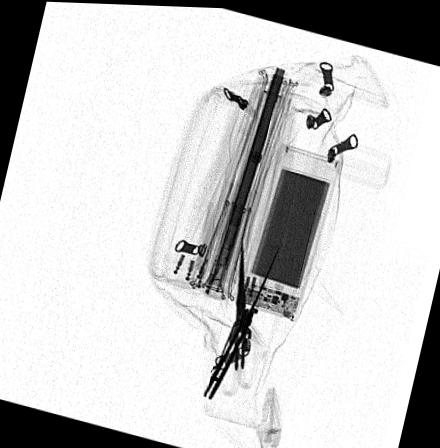Knife: (198, 240, 281, 400)
Powerbank: (239, 140, 340, 320)
Scissors: (216, 233, 264, 395)
